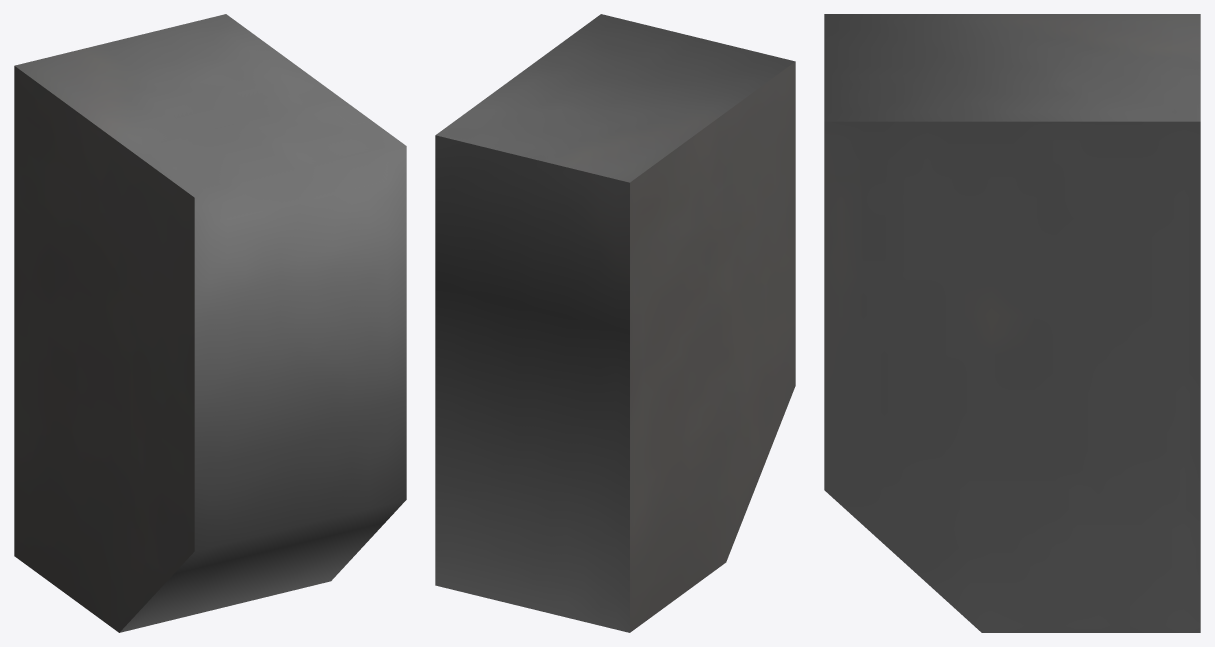
File: Trim_02_Cap.fbx
The picture shows the model from 3 angles, left to right: view 1: azimuth 30°, elevation 25°; view 2: azimuth 150°, elevation 25°; view 3: azimuth 270°, elevation 25°; orthographic projection. The views are drawn at different scales.
Visible parts, largest first — view 1: Trim_02_Cap; view 2: Trim_02_Cap; view 3: Trim_02_Cap.
Part boxes in pixels (x1,y1,x2,y2): Trim_02_Cap: (14, 14, 406, 632); Trim_02_Cap: (435, 14, 795, 632); Trim_02_Cap: (824, 14, 1200, 632).
Size of the model in its own units: 0.1312 by 0.2902 by 0.1936.
